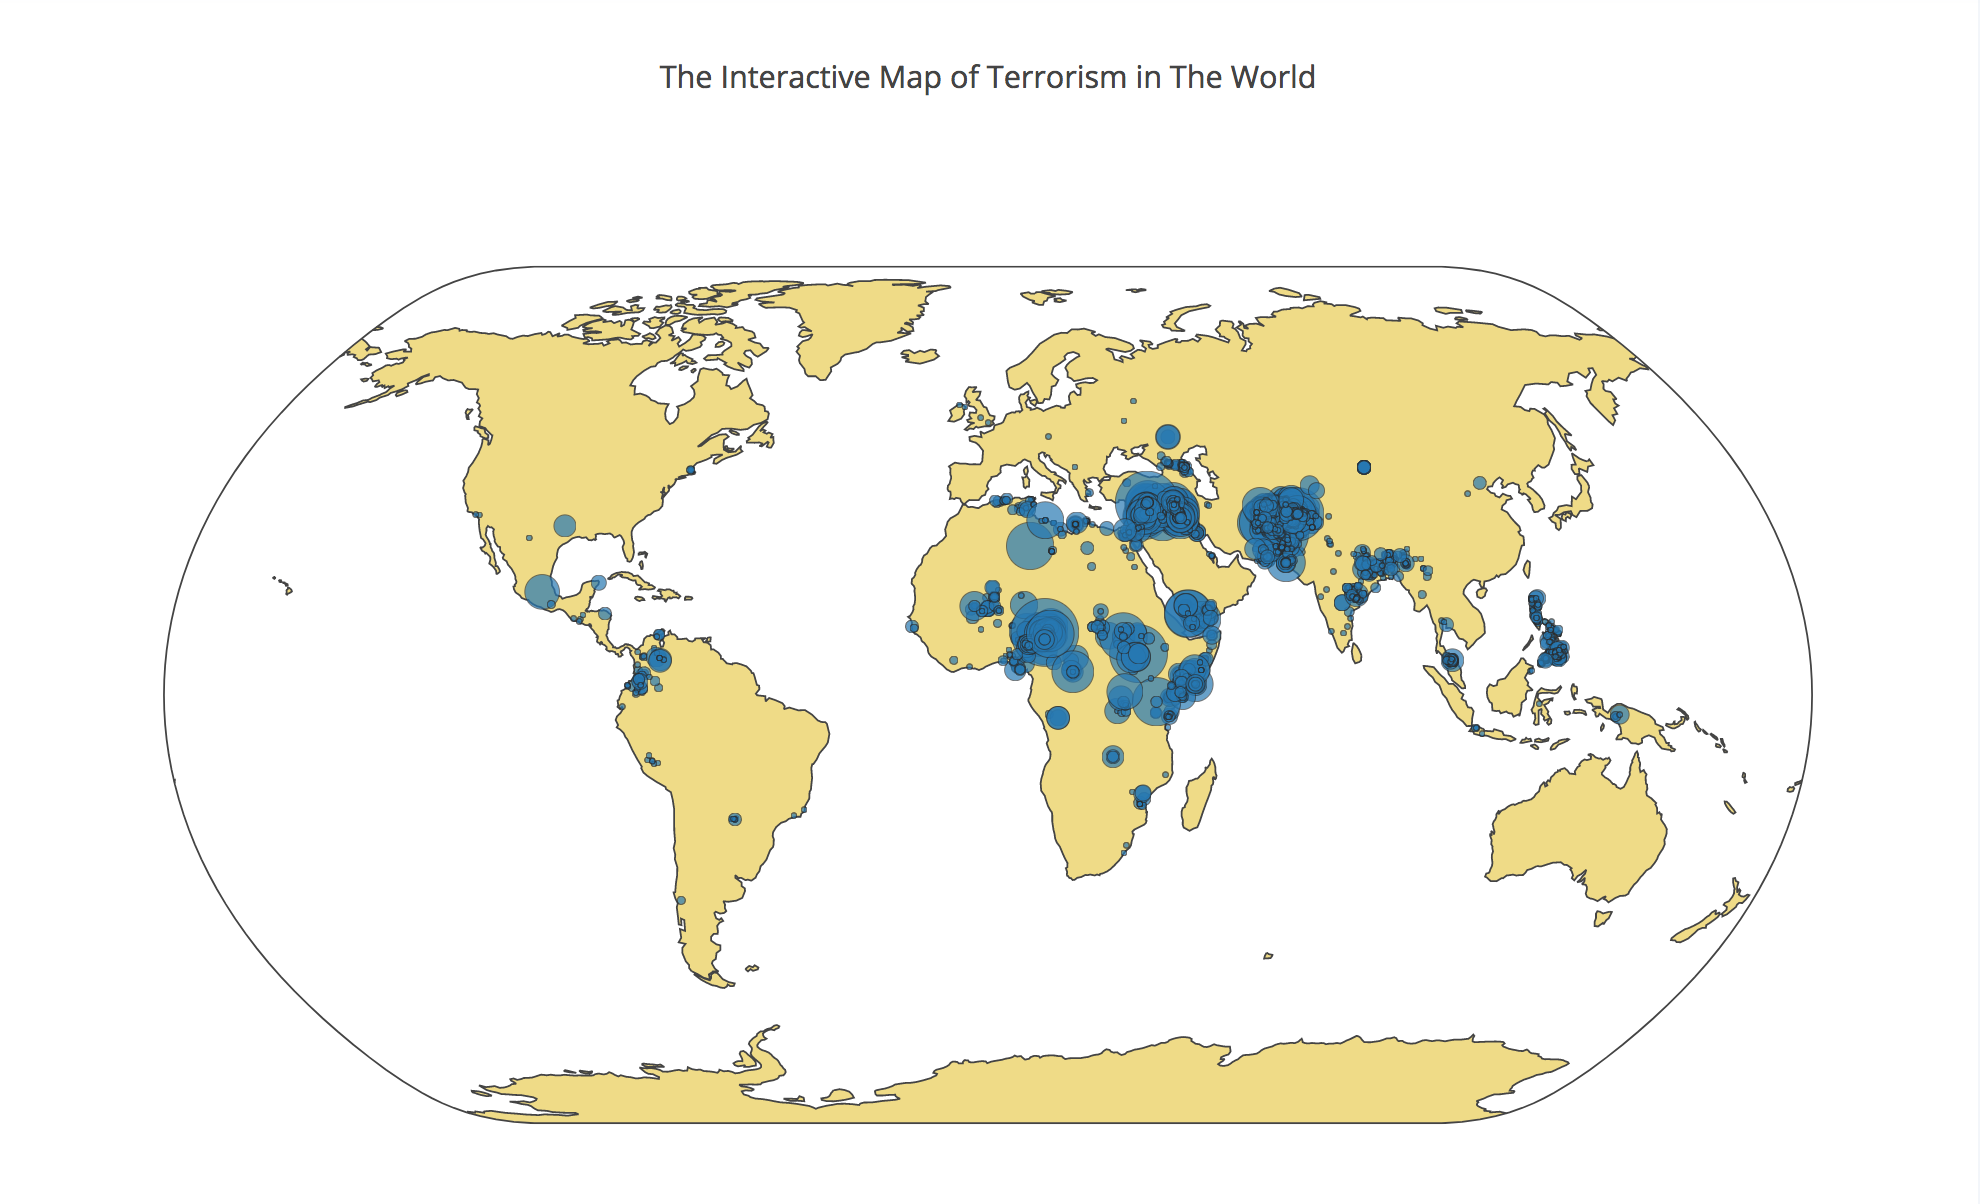

What the dashboard file says about the page in this screenshot:
{"tool":"tableau","page":{"name":"Dashboard 1","canvas":[1000,800],"ordinal":0},"visuals":[{"type":"worksheet","title":"Sheet 2","mark":"Circle","box":[0,0,420,800]},{"type":"worksheet","title":"Sheet 1","mark":"Circle","box":[420,0,420,800]},{"type":"legend","title":"Sheet 2","param":"[federated.04id06k0r0qn6o1epfiiu1t74m8r].[none:country_txt:nk]","box":[840,0,160,710]},{"type":"filter","title":"Sheet 1","param":"[federated.04id06k0r0qn6o1epfiiu1t74m8r].[none:iyear:qk]","box":[840,710,160,69]}]}

Visuals, with their boxes on the page's 1000x800 design canvas (x1, y1, x2, y2). These are canvas units, not pixel positions in the 1980x1204 screenshot, which may show the page scaled, cropped or inside an application window:
"Sheet 2" worksheet (Circle marks): left=0, top=0, right=420, bottom=800
"Sheet 1" worksheet (Circle marks): left=420, top=0, right=840, bottom=800
"Sheet 2" legend: left=840, top=0, right=1000, bottom=710
"Sheet 1" filter: left=840, top=710, right=1000, bottom=779
